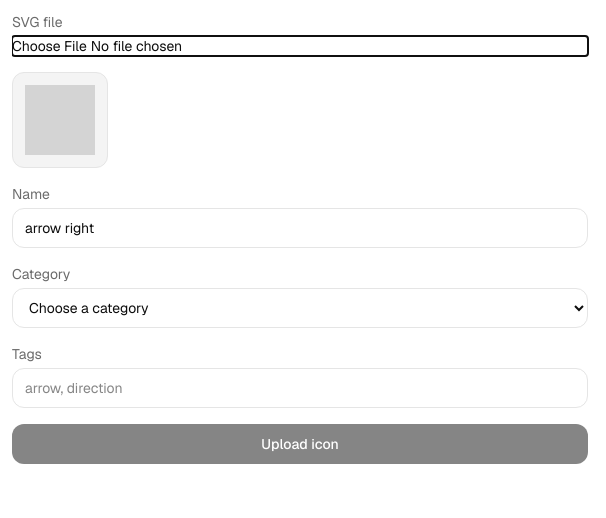
Scenario: <IconUploadForm /> › shows the server error when the upload fails
Earlier steps of the test are not shown.
Select "Arrows" in the dropdown labelled "Category" at [300, 308], box [12, 288, 588, 328]
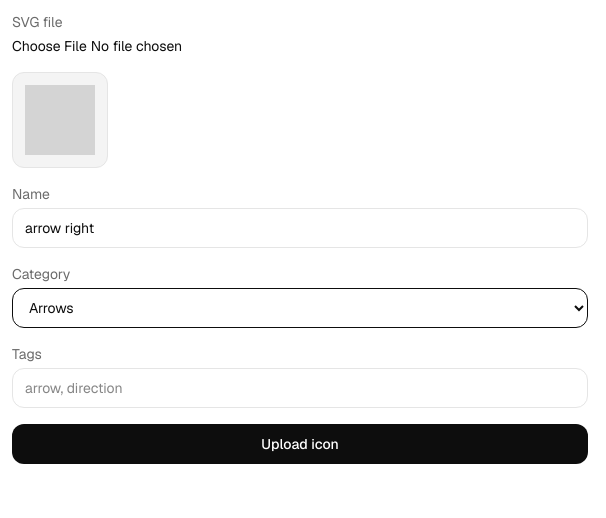
Click the button "Upload icon" at [300, 444], box [12, 424, 588, 464]
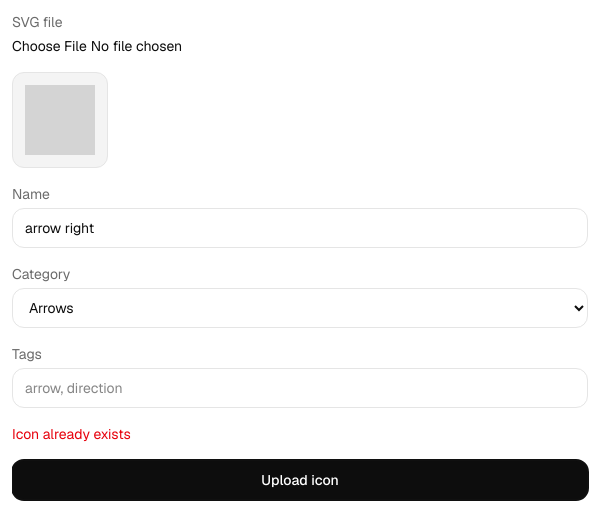
Expected: the field labelled "Name" holds "arrow right", [12, 208, 588, 248]
Expected: the message shows "already exists", [12, 425, 131, 443]
